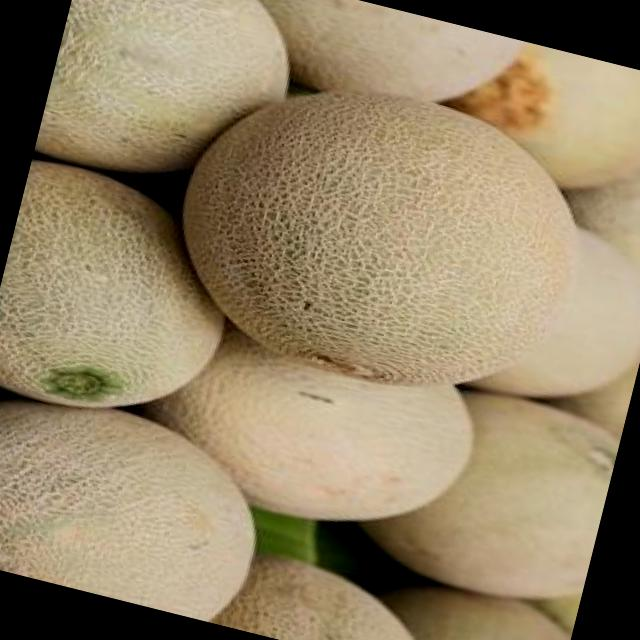cantaloupe: (148, 48, 605, 422)
